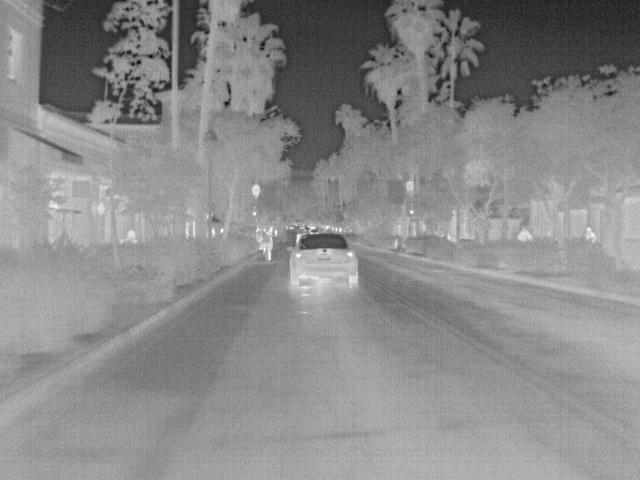car: (287, 230, 363, 286)
person: (259, 230, 274, 262), (581, 224, 598, 243), (517, 224, 535, 240), (123, 228, 139, 244)
